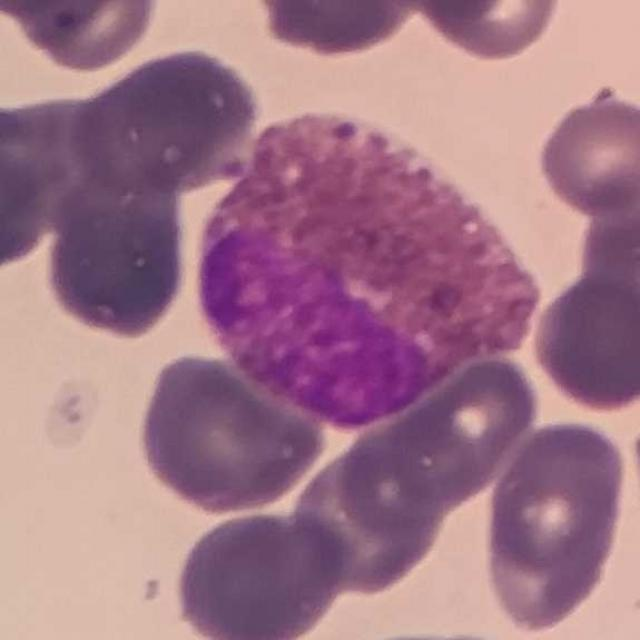Eosinophil: (167, 88, 561, 431)
RBC: (479, 414, 632, 636), (132, 348, 328, 516), (68, 41, 266, 196), (38, 157, 196, 345), (364, 350, 545, 508), (235, 290, 433, 428), (288, 440, 450, 598), (169, 506, 352, 640), (332, 408, 478, 536), (527, 268, 639, 415), (533, 87, 640, 218), (10, 0, 164, 73), (250, 0, 426, 60), (577, 191, 640, 349), (418, 0, 566, 65), (0, 127, 53, 280), (0, 0, 127, 33), (390, 0, 519, 24), (628, 397, 640, 552)
